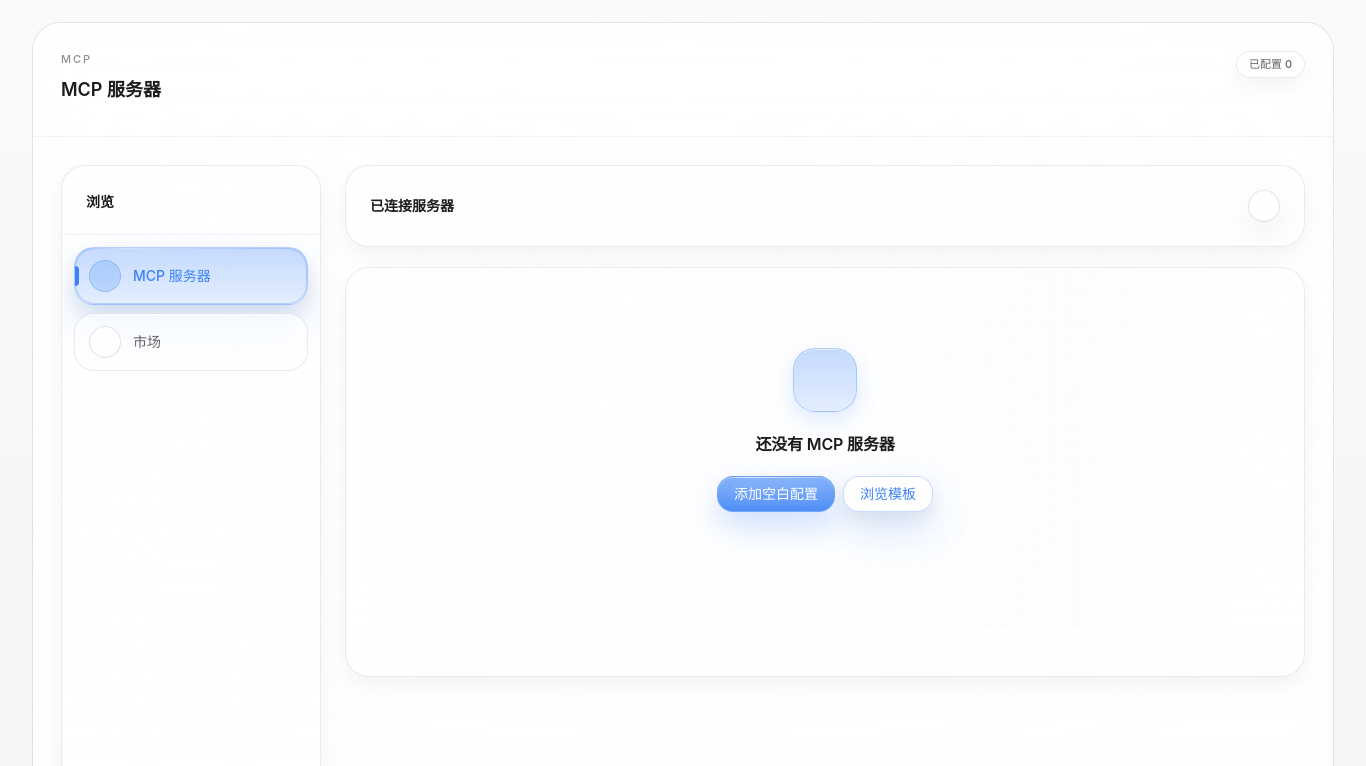
Test: McpSetting › removes the overview card and pins detail actions to the bottom of the editor
Expected: the heading "还没有 MCP 服务器" is shown, [755, 432, 895, 456]
Click the button "添加空白配置" at x=776, y=494, box [717, 476, 835, 512]
(page scrolled)
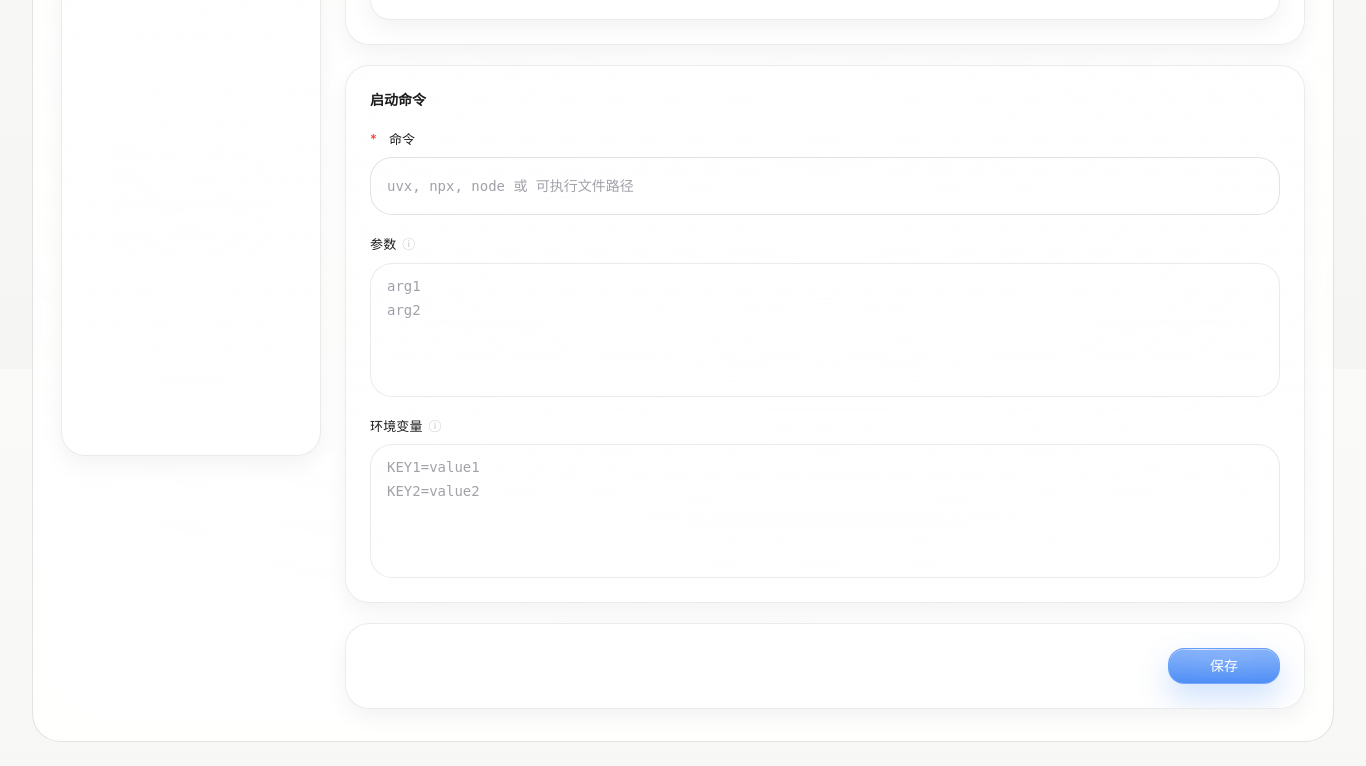
Expected: the button "保存" is shown, [1168, 648, 1280, 684]
